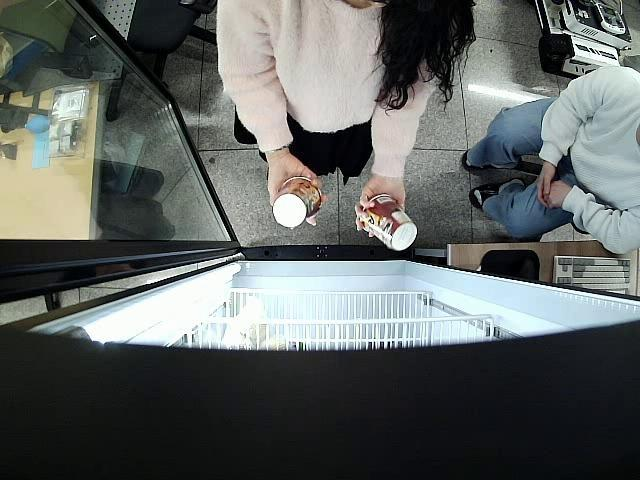06_nuguri_S: (360, 196, 418, 252), (273, 177, 322, 228)
